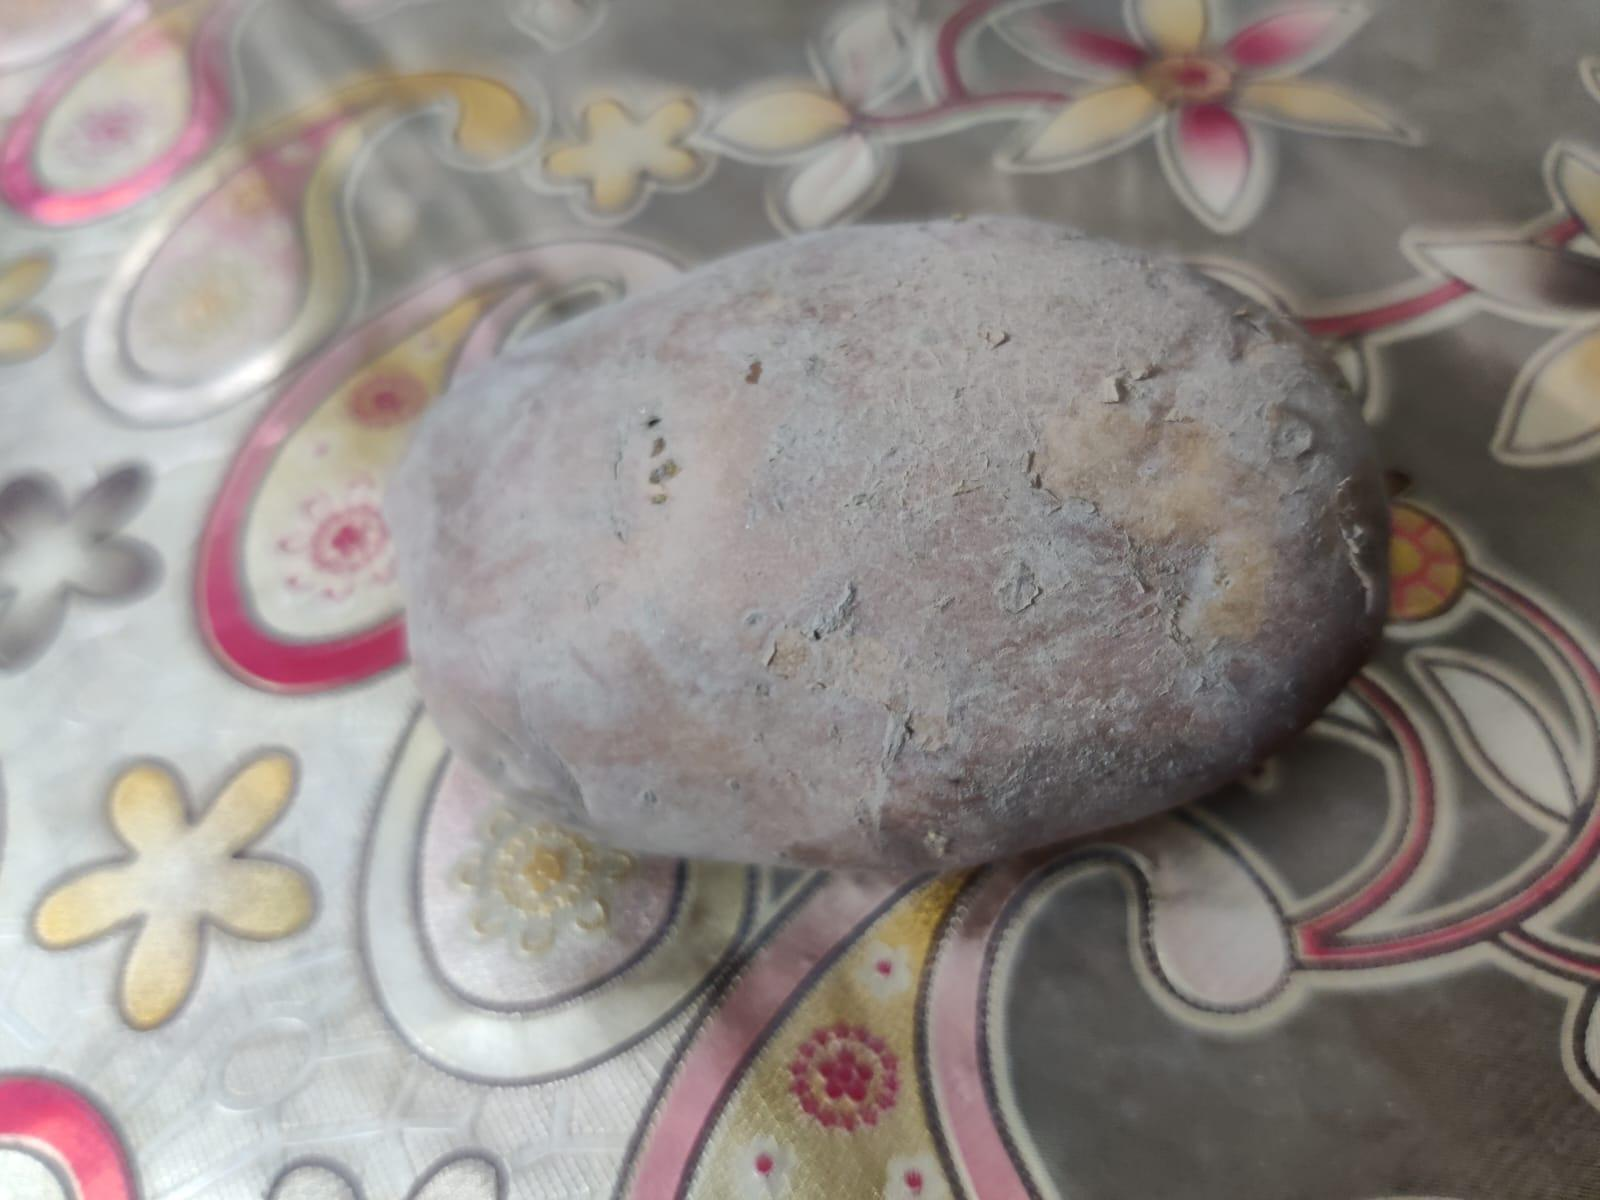non-mango: (387, 218, 1396, 879)
